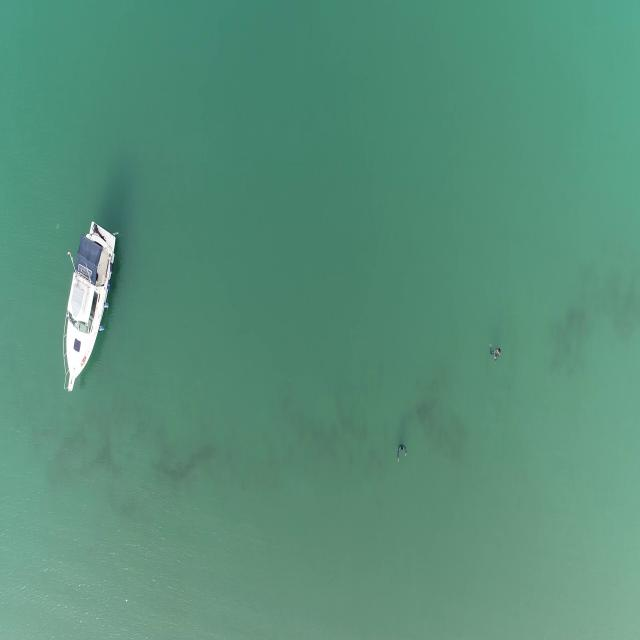boat: (59, 221, 120, 396)
person: (395, 443, 409, 465), (489, 342, 501, 365)
